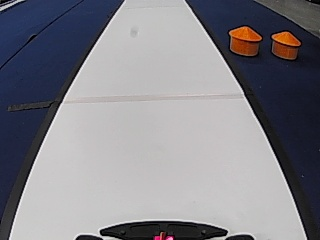granary: (227, 23, 262, 56), (269, 29, 301, 59)
